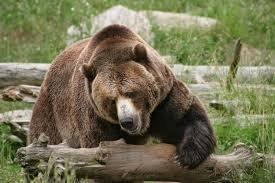bear: (29, 24, 217, 171)
